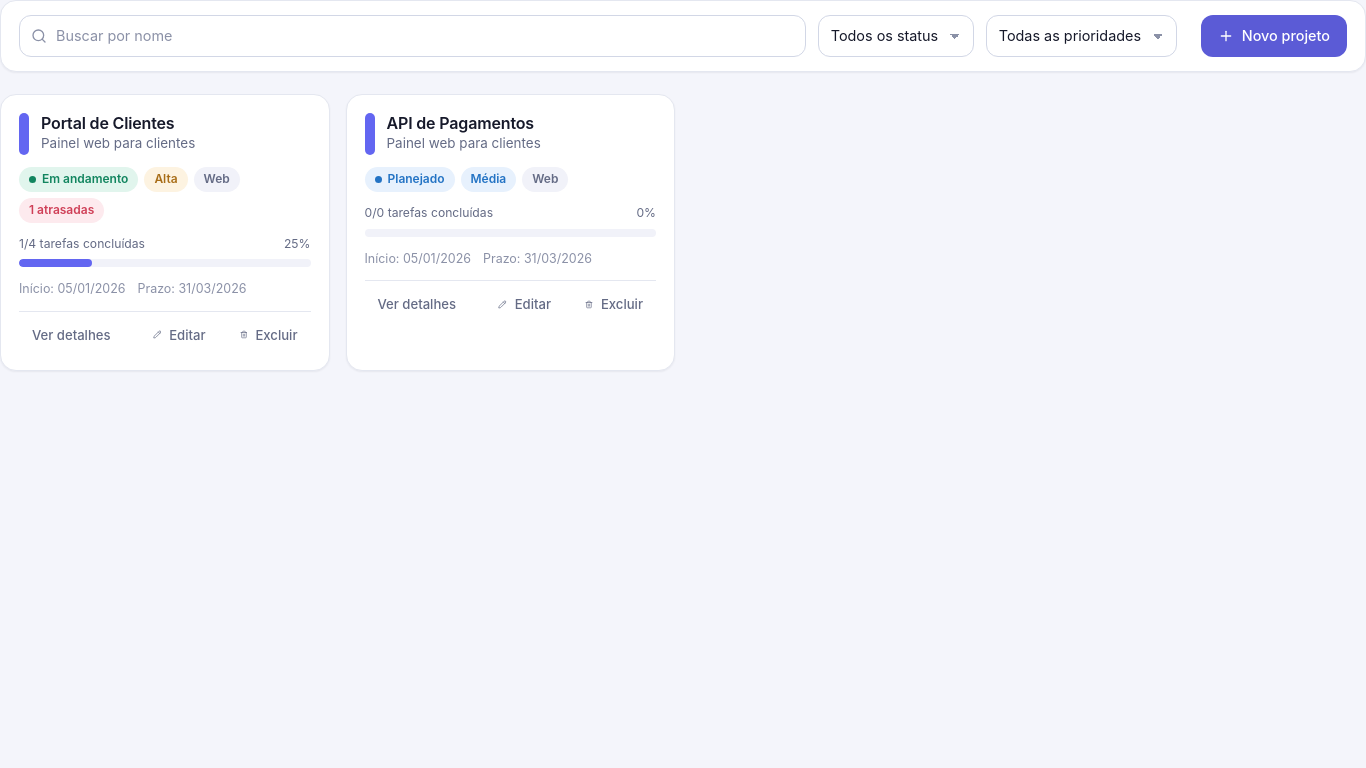
Test: ProjectsPage › avisa quando o cadastro falha
Expected: the heading "Portal de Clientes" is shown, [41,113,174,133]
Click the button "Novo projeto" at (1274, 36), box [1201,15,1347,57]
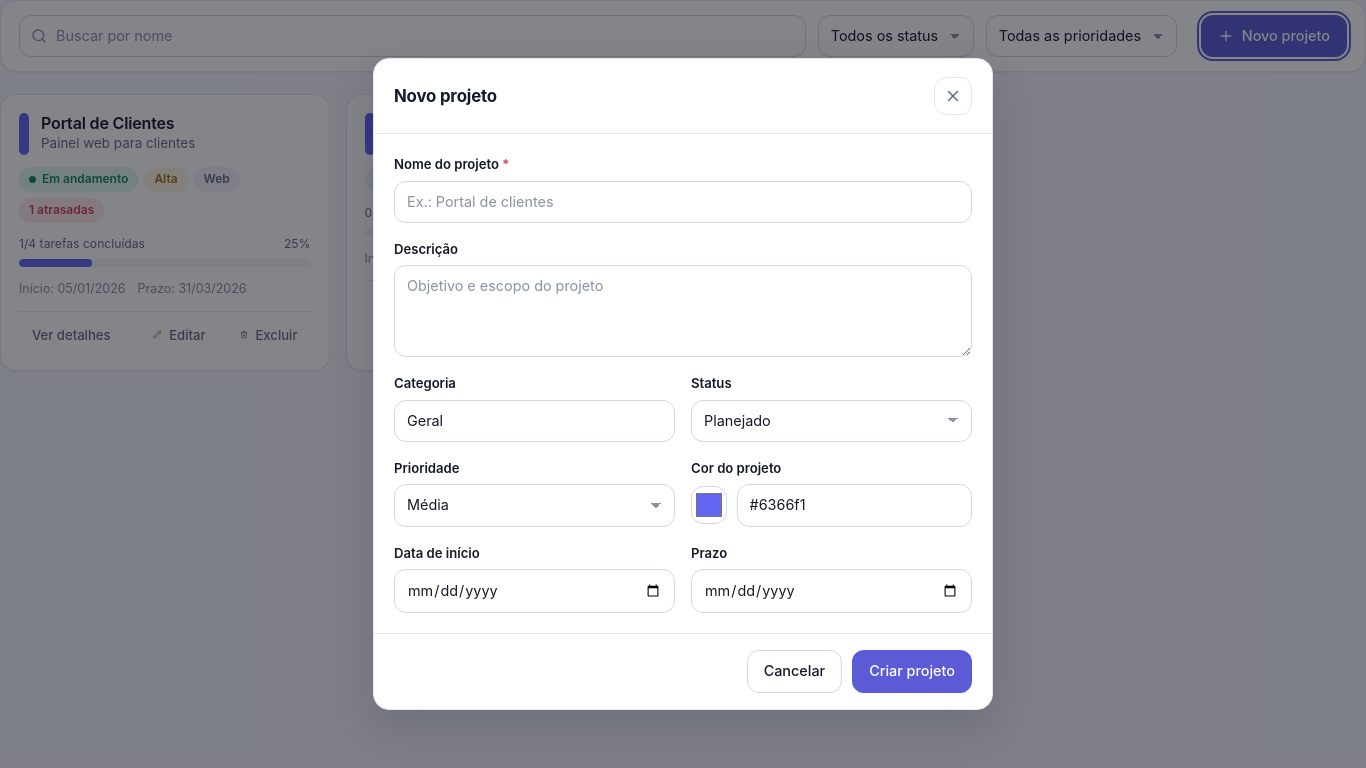
Type "Repetido" into the field labelled "Nome do projeto *" at (683, 202), box [394,181,972,223]
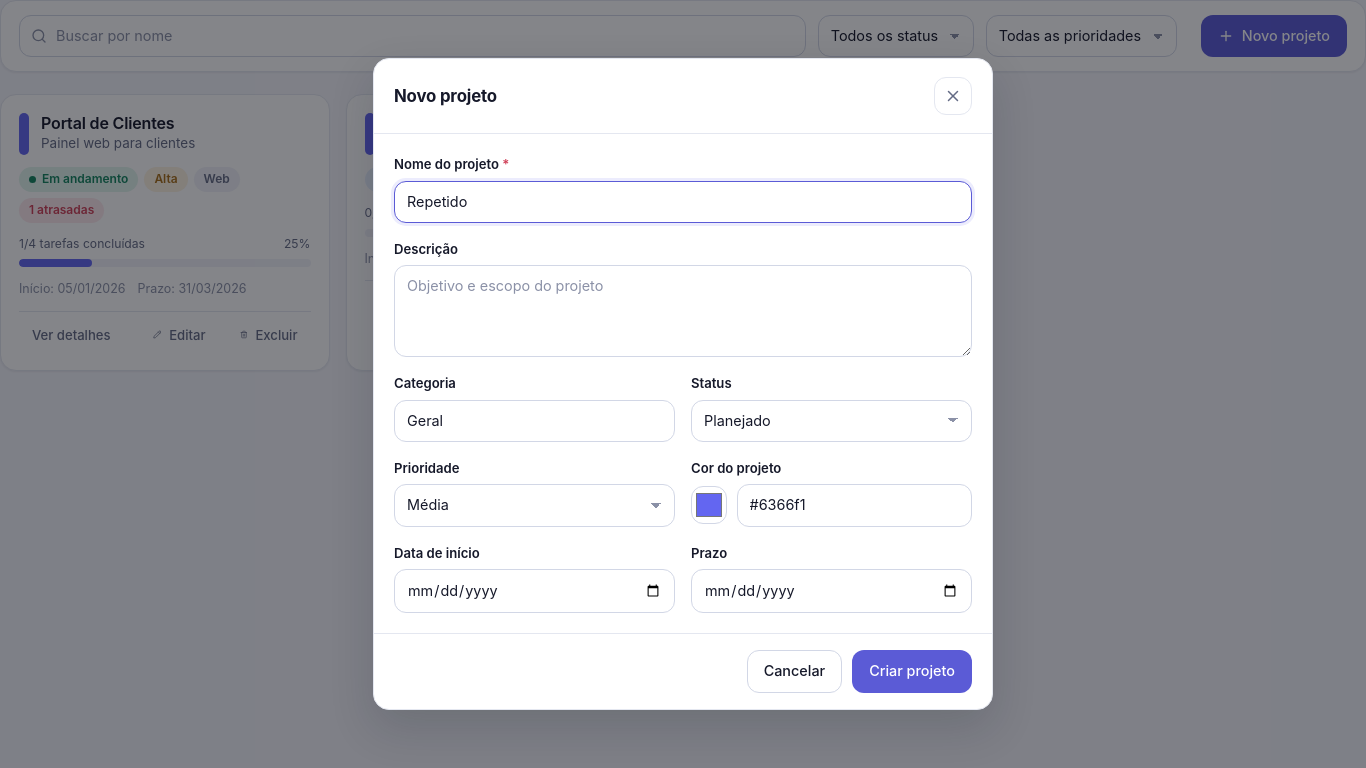
Click the button "Criar projeto" at (912, 671), box [852,650,972,693]
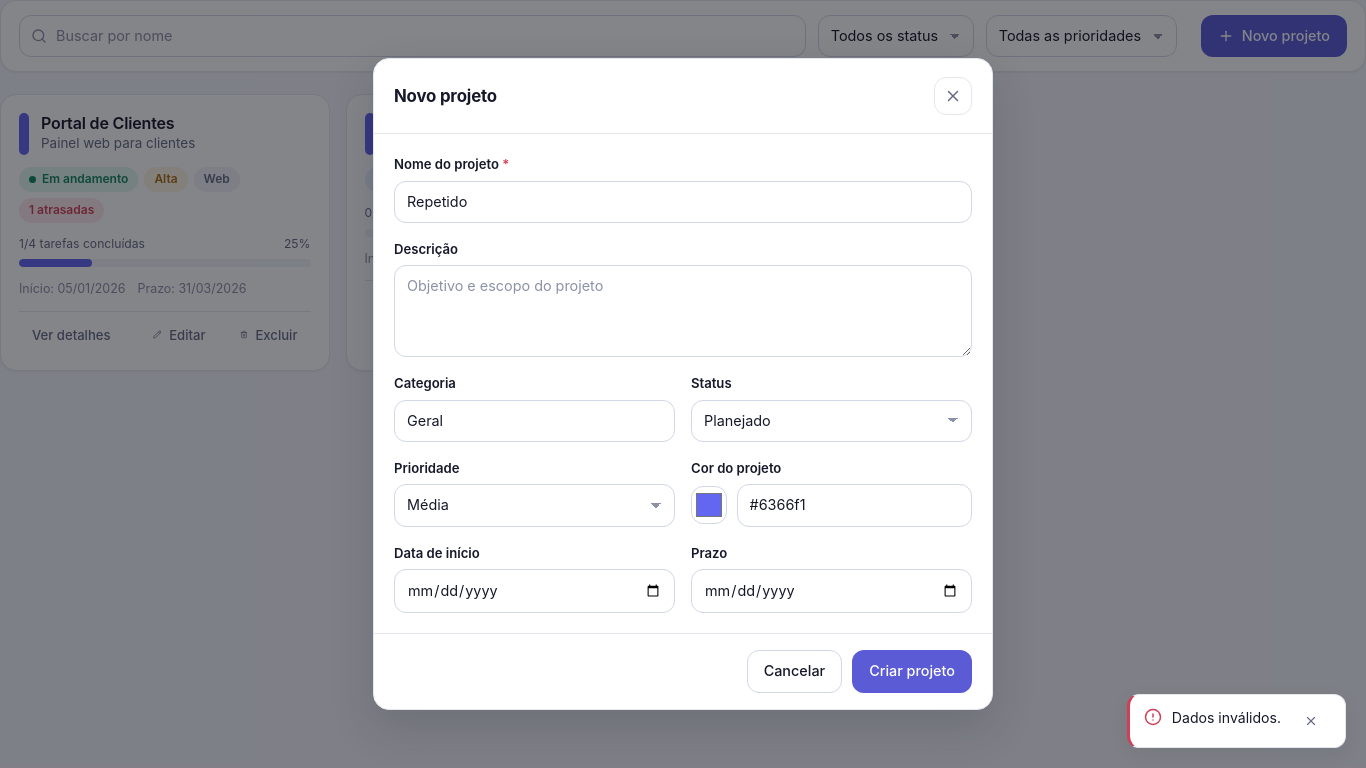
Expected: the text "Dados inválidos." is shown, [1172,707,1281,729]
